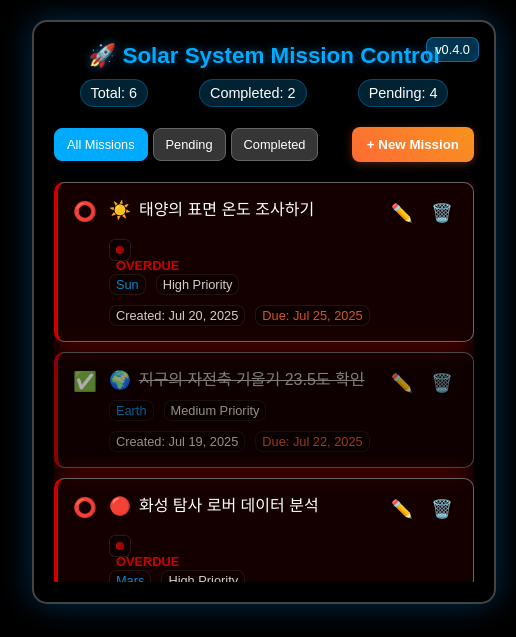
Scenario: TodoManager › opens todo form when "New Mission" button is clicked
Click the button "+ New Mission".
click(413, 144)  # box [352, 127, 474, 162]
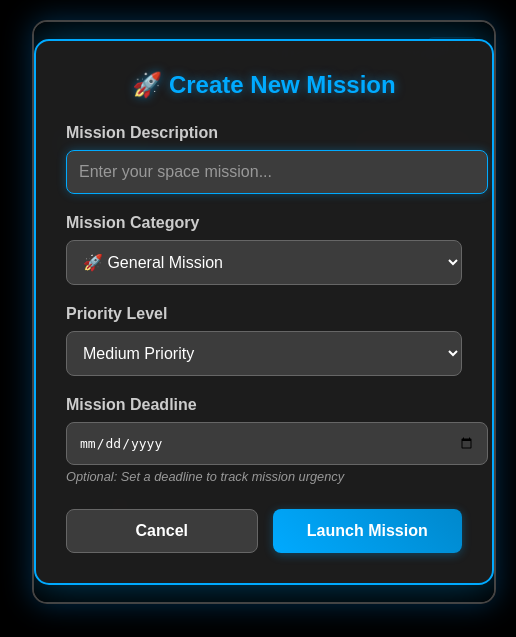
Check: the heading "🚀 Create New Mission" is shown, box [132, 71, 396, 98]
Check: the field with placeholder "Enter your space mission..." is shown, box [66, 150, 488, 194]
